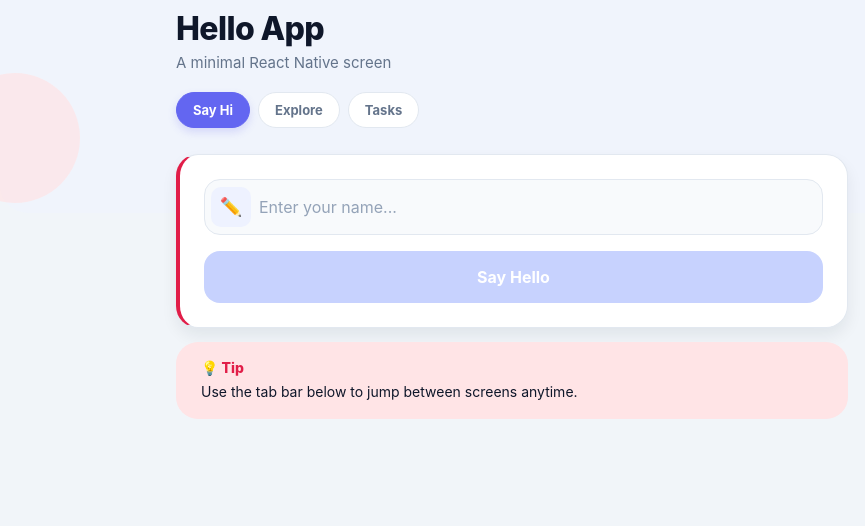
Test: HomeScreen › resets the form when Start Over is clicked
Type "Carol" into the field with placeholder "Enter your name..." at {"x": 538, "y": 207}, box [259, 180, 816, 234]
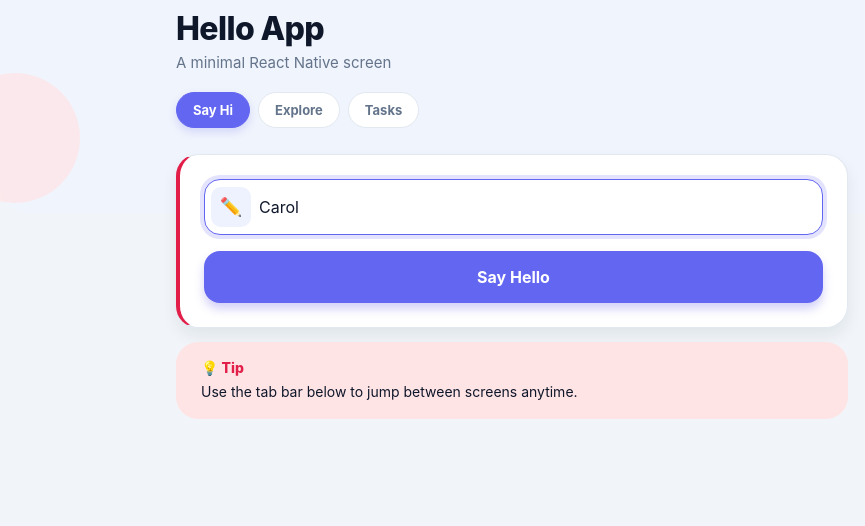
Click the button "Say Hello" at {"x": 514, "y": 277}, box [204, 251, 823, 303]
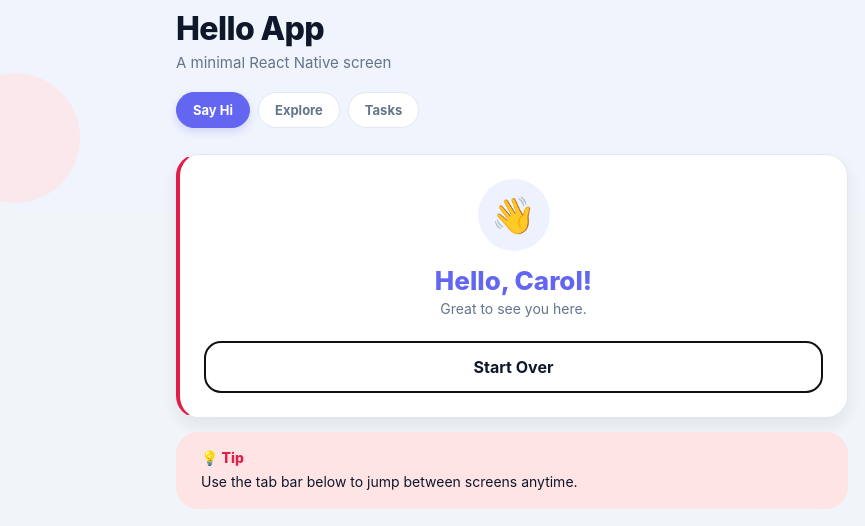
Click the button "Start Over" at {"x": 514, "y": 367}, box [204, 341, 823, 393]
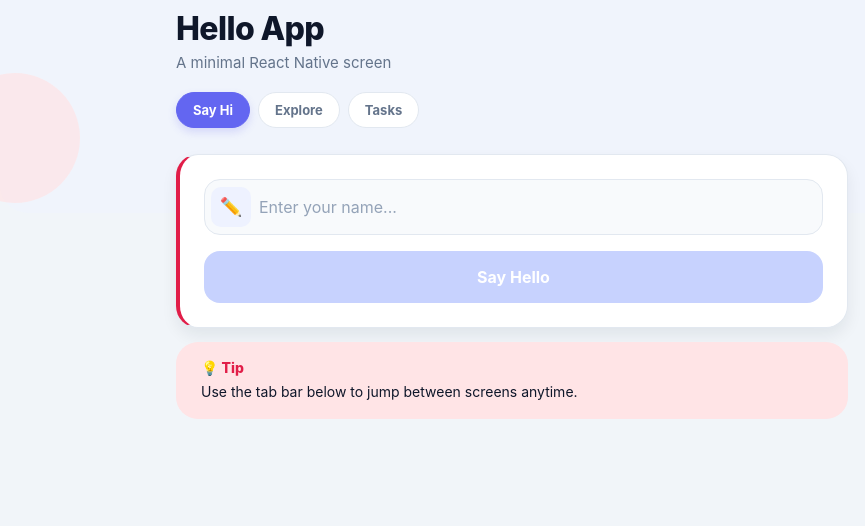
Now the field with placeholder "Enter your name..." is empty, box [259, 180, 816, 234]
Now the button "Say Hello" is disabled, box [204, 251, 823, 303]
